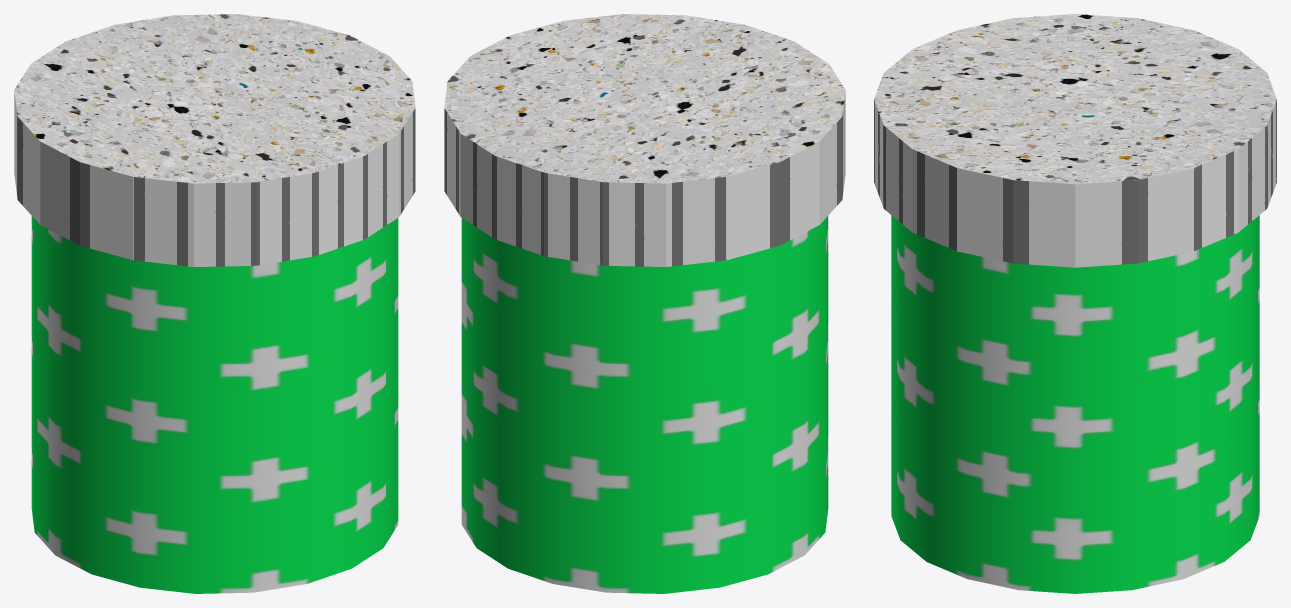
The model's file is Vida.fbx.
3 views of the same model, side by side, from view 1: azimuth 30°, elevation 25°; view 2: azimuth 150°, elevation 25°; view 3: azimuth 270°, elevation 25° (orthographic).
Visible parts, largest first — view 1: pCylinder1; view 2: pCylinder1; view 3: pCylinder1.
Part boxes in pixels (x1=…): pCylinder1: x1=14, y1=14, x2=415, y2=593; pCylinder1: x1=444, y1=14, x2=845, y2=593; pCylinder1: x1=874, y1=14, x2=1276, y2=593.
Bounding box in the file's own units: 2.19 × 2.5 × 2.19.
3 materials, 3 textured.
